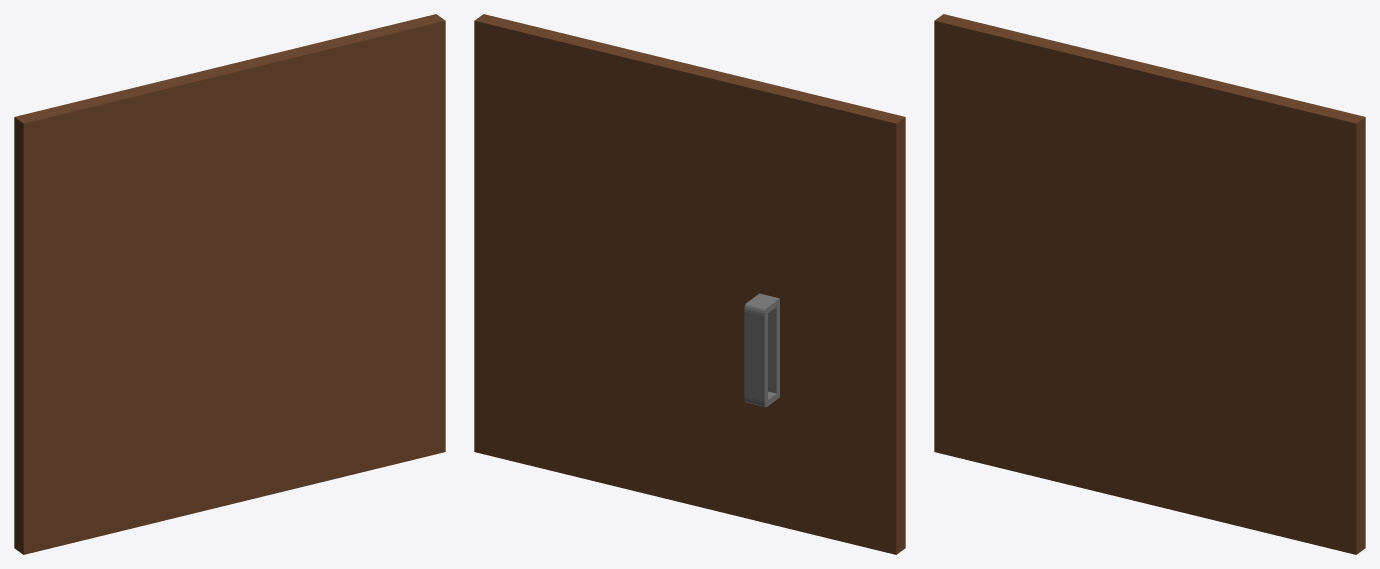
File: Cabinet_Door_1.fbx
The picture shows the model from 3 angles, left to right: view 1: azimuth 30°, elevation 25°; view 2: azimuth 150°, elevation 25°; view 3: azimuth 330°, elevation 25°; orthographic projection.
Visible parts, largest first — view 1: Cabinet Door.001; view 2: Cabinet Door.001; view 3: Cabinet Door.001.
Boxes of the visible parts, left/top/right/bottom form: Cabinet Door.001: left=14, top=14, right=445, bottom=554; Cabinet Door.001: left=474, top=14, right=905, bottom=554; Cabinet Door.001: left=934, top=14, right=1365, bottom=554.
Size of the model in its own units: 1073 by 1048 by 108.
